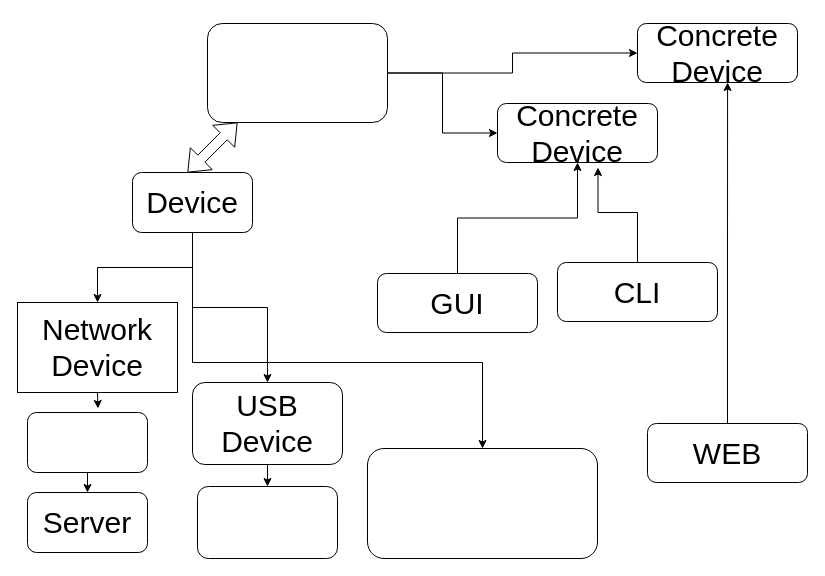
Image size: 825x576. Some labels were removed from this diagram. The shapes that lost their labels are listed below. From the top down, each one's centre as x and y in pixels, then its label:
point 297,72: Device Controller
point 87,442: Socket
point 267,522: USB Port
point 482,503: ProgramDevice
